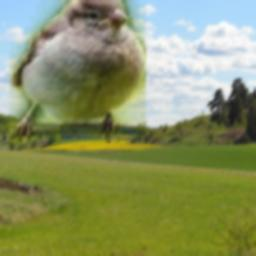Sparrow: (9, 0, 146, 144)
